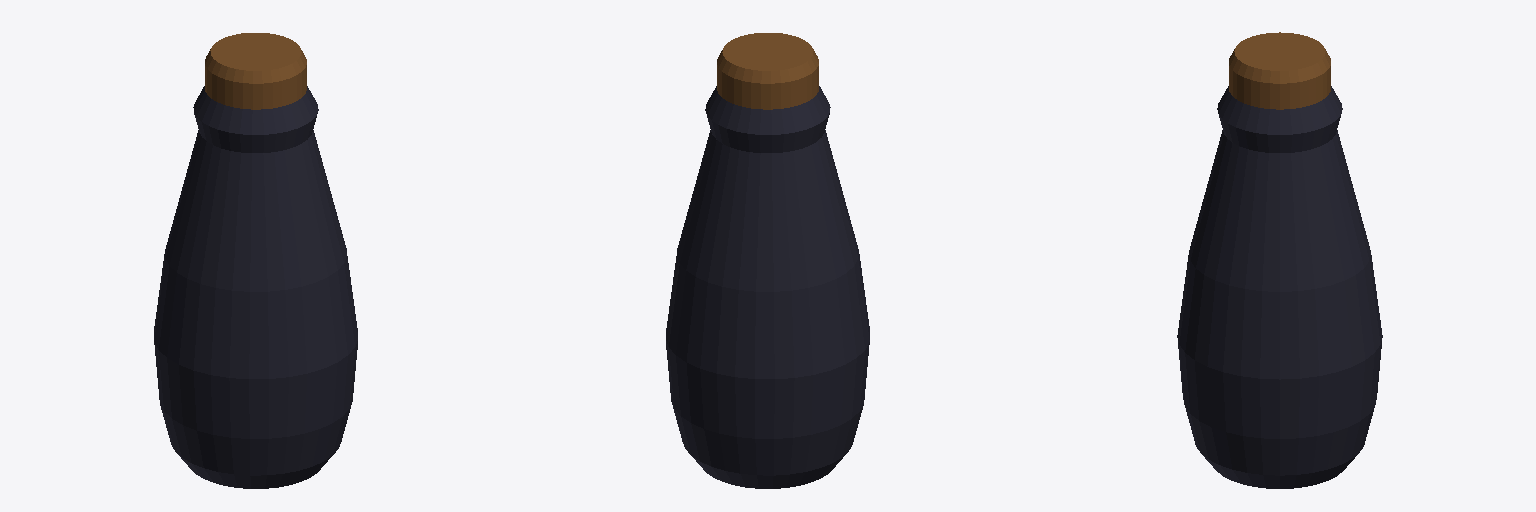
File: health_potion.obj
3 views of the same model, side by side, from view 1: azimuth 30°, elevation 25°; view 2: azimuth 150°, elevation 25°; view 3: azimuth 270°, elevation 25° (orthographic).
Visible parts, largest first — view 1: Bottle, Cork; view 2: Bottle, Cork; view 3: Bottle, Cork.
Boxes of the visible parts, x1,y1,x2,y2 form: Bottle: [154, 86, 357, 488]; Cork: [205, 33, 306, 109]; Bottle: [666, 86, 869, 488]; Cork: [717, 33, 818, 109]; Bottle: [1177, 86, 1382, 488]; Cork: [1229, 32, 1330, 109].
Size of the model in its own units: 0.36 by 0.79 by 0.36.